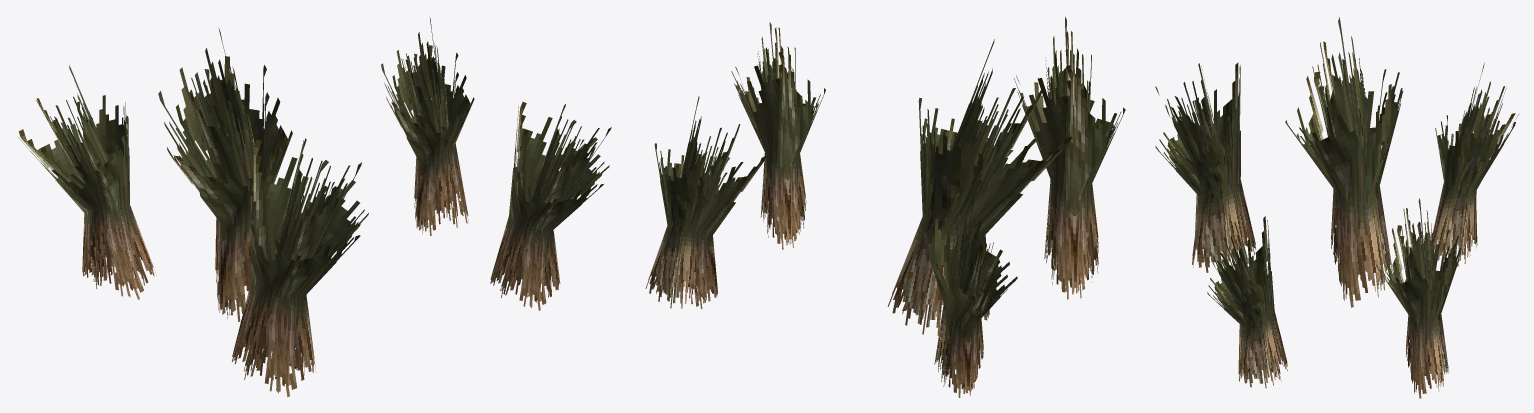
Rendered from Tree09.glb.
The picture shows the model from 3 angles, left to right: view 1: azimuth 30°, elevation 25°; view 2: azimuth 150°, elevation 25°; view 3: azimuth 270°, elevation 25°; orthographic projection. The views are drawn at different scales.
Visible parts, largest first — view 1: Tree09; view 2: Tree09; view 3: Tree09.
Part boxes in pixels (x1,y1,x2,y2): Tree09: (18,18,611,397); Tree09: (645,16,1125,397); Tree09: (1155,17,1519,398).
Size of the model in its own units: 2.8 by 1.92 by 2.41.
1 material, 1 textured.
